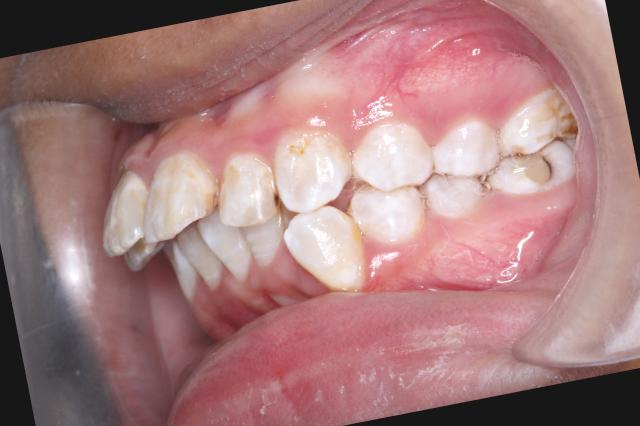canine class II 1/2: (262, 103, 438, 304)
molar class I: (468, 82, 592, 209)
